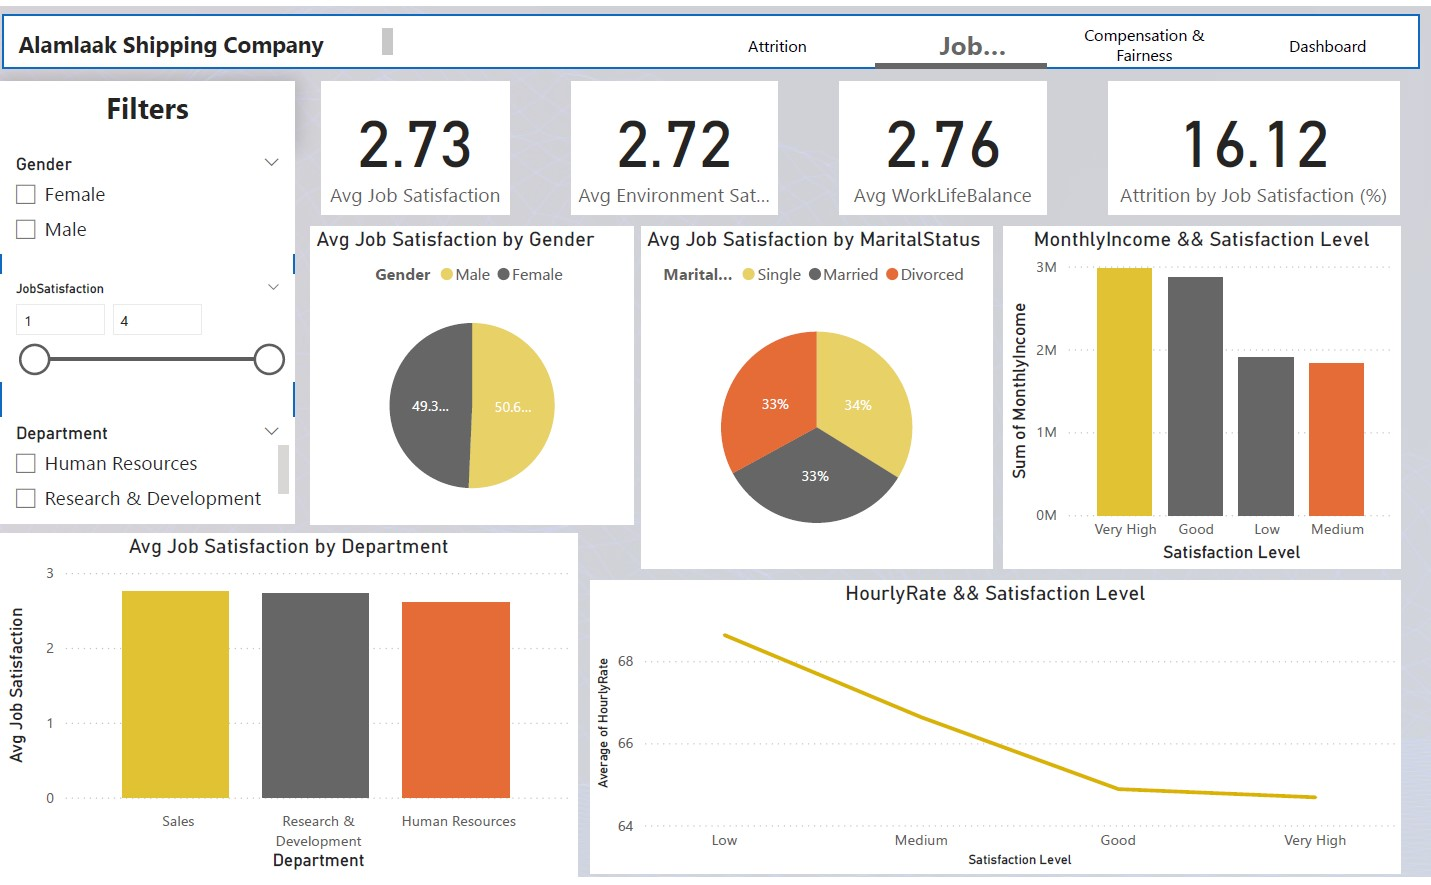

The page's visual inventory and layout, read from the dashboard file:
{"tool":"powerbi","page":{"name":"  Job Satisfaction","canvas":[1280,720],"ordinal":1},"visuals":[{"type":"shape","box":[55.7,5.9,1174.7,45.5],"z":0},{"type":"textbox","box":[63.9,12.8,319.7,33.6],"z":1000},{"type":"card","fields":{"Values":["Employees.Avg Job Satisfaction"]},"box":[319.7,61.7,156.4,109.8],"z":2000},{"type":"card","fields":{"Values":["Employees.Avg Environment Satisfaction"]},"box":[526.9,61.7,171.5,109.8],"z":3000},{"type":"columnChart","title":"MonthlyIncome && Satisfaction Level","fields":{"Y":["Sum(Employees.MonthlyIncome)"],"Category":["Employees.Satisfaction Level"]},"box":[884.9,182.5,328.8,282.4],"z":4000},{"type":"pieChart","fields":{"Category":["Employees.Gender"],"Y":["Employees.Avg Job Satisfaction"]},"box":[311.4,182.5,267.9,246.2],"z":5000},{"type":"lineChart","title":" HourlyRate && Satisfaction Level","fields":{"Category":["Employees.Satisfaction Level"],"Y":["Avg(Employees.HourlyRate)"]},"box":[543.1,475,670.6,243.3],"z":6000},{"type":"pieChart","fields":{"Category":["Employees.MaritalStatus"],"Y":["Employees.Avg Job Satisfaction"]},"box":[585.1,182.5,291.1,282.4],"z":7000},{"type":"clusteredColumnChart","fields":{"Category":["Employees.Department"],"Y":["Employees.Avg Job Satisfaction"]},"box":[53.6,435.9,477.9,283.9],"z":8000},{"type":"shape","box":[53.5,61.7,244.3,366.4],"z":9000},{"type":"textbox","box":[53.5,61.7,244.3,54.9],"z":10000},{"type":"slicer","fields":{"Values":["Employees.Gender"]},"box":[53.5,116.6,244.3,87.8],"z":11000},{"type":"slicer","fields":{"Values":["Employees.Department"]},"box":[53.5,340.3,244.3,87.8],"z":12000},{"type":"slicer","fields":{"Values":["Employees.JobSatisfaction"]},"box":[53.5,222.3,244.3,87.8],"z":13000},{"type":"card","fields":{"Values":["Employees.Avg WorkLifeBalance"]},"box":[749.2,61.7,171.5,109.8],"z":14000},{"type":"card","fields":{"Values":["Employees.Attrition by Job Satisfaction (%)"]},"box":[971.5,61.7,241.5,109.8],"z":15000},{"type":"pageNavigator","box":[626.6,11.2,599.4,40],"z":15001}]}

Visuals, with their boxes on the page's 1280x720 design canvas (x1, y1, x2, y2). These are canvas units, not pixel positions in the 1431x885 screenshot, which may show the page scaled, cropped or inside an application window:
shape: [56, 6, 1230, 51]
textbox: [64, 13, 384, 46]
card - Employees.Avg Job Satisfaction: [320, 62, 476, 172]
card - Employees.Avg Environment Satisfaction: [527, 62, 698, 172]
"MonthlyIncome && Satisfaction Level" columnChart: [885, 182, 1214, 465]
pieChart - Employees.Gender x Employees.Avg Job Satisfaction: [311, 182, 579, 429]
" HourlyRate && Satisfaction Level" lineChart: [543, 475, 1214, 718]
pieChart - Employees.MaritalStatus x Employees.Avg Job Satisfaction: [585, 182, 876, 465]
clusteredColumnChart - Employees.Department x Employees.Avg Job Satisfaction: [54, 436, 532, 720]
shape: [54, 62, 298, 428]
textbox: [54, 62, 298, 117]
slicer - Employees.Gender: [54, 117, 298, 204]
slicer - Employees.Department: [54, 340, 298, 428]
slicer - Employees.JobSatisfaction: [54, 222, 298, 310]
card - Employees.Avg WorkLifeBalance: [749, 62, 921, 172]
card - Employees.Attrition by Job Satisfaction (%): [972, 62, 1213, 172]
pageNavigator: [627, 11, 1226, 51]
